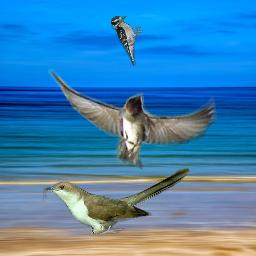Cuckoo: (43, 167, 190, 234)
Swallow: (48, 69, 218, 171)
Woodpecker: (111, 16, 143, 66)
